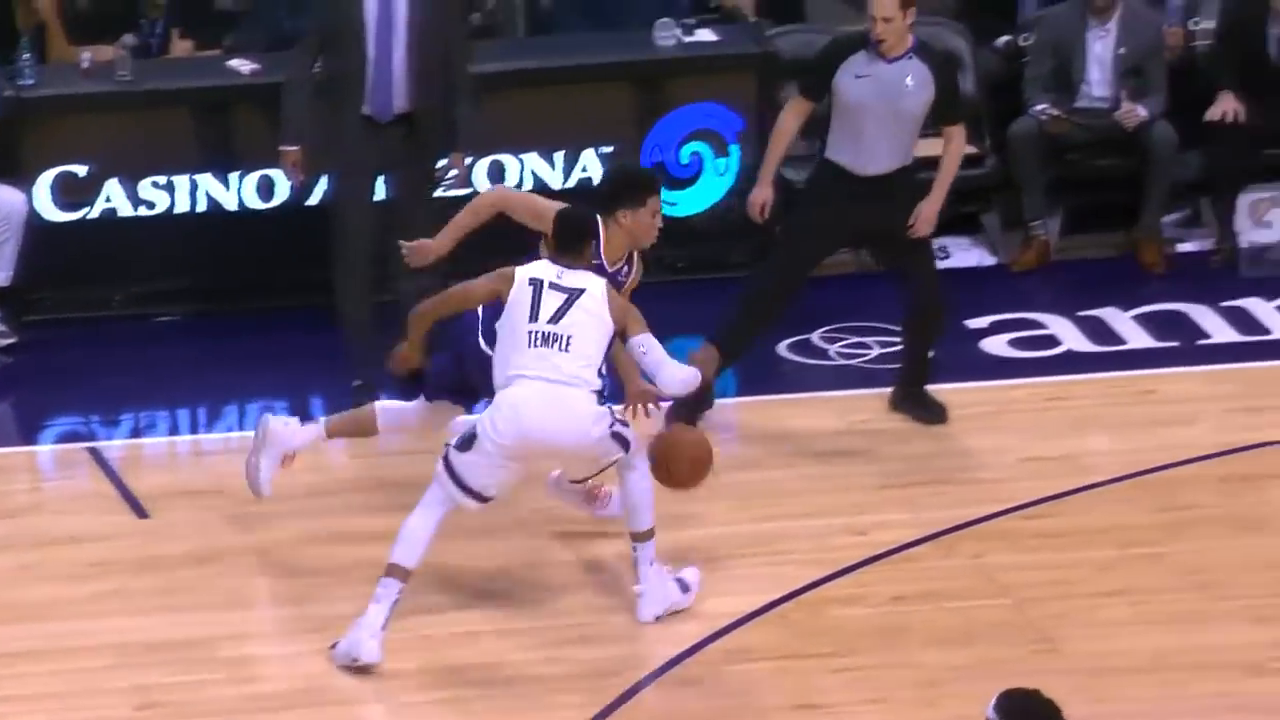ball: (647, 423, 715, 491)
